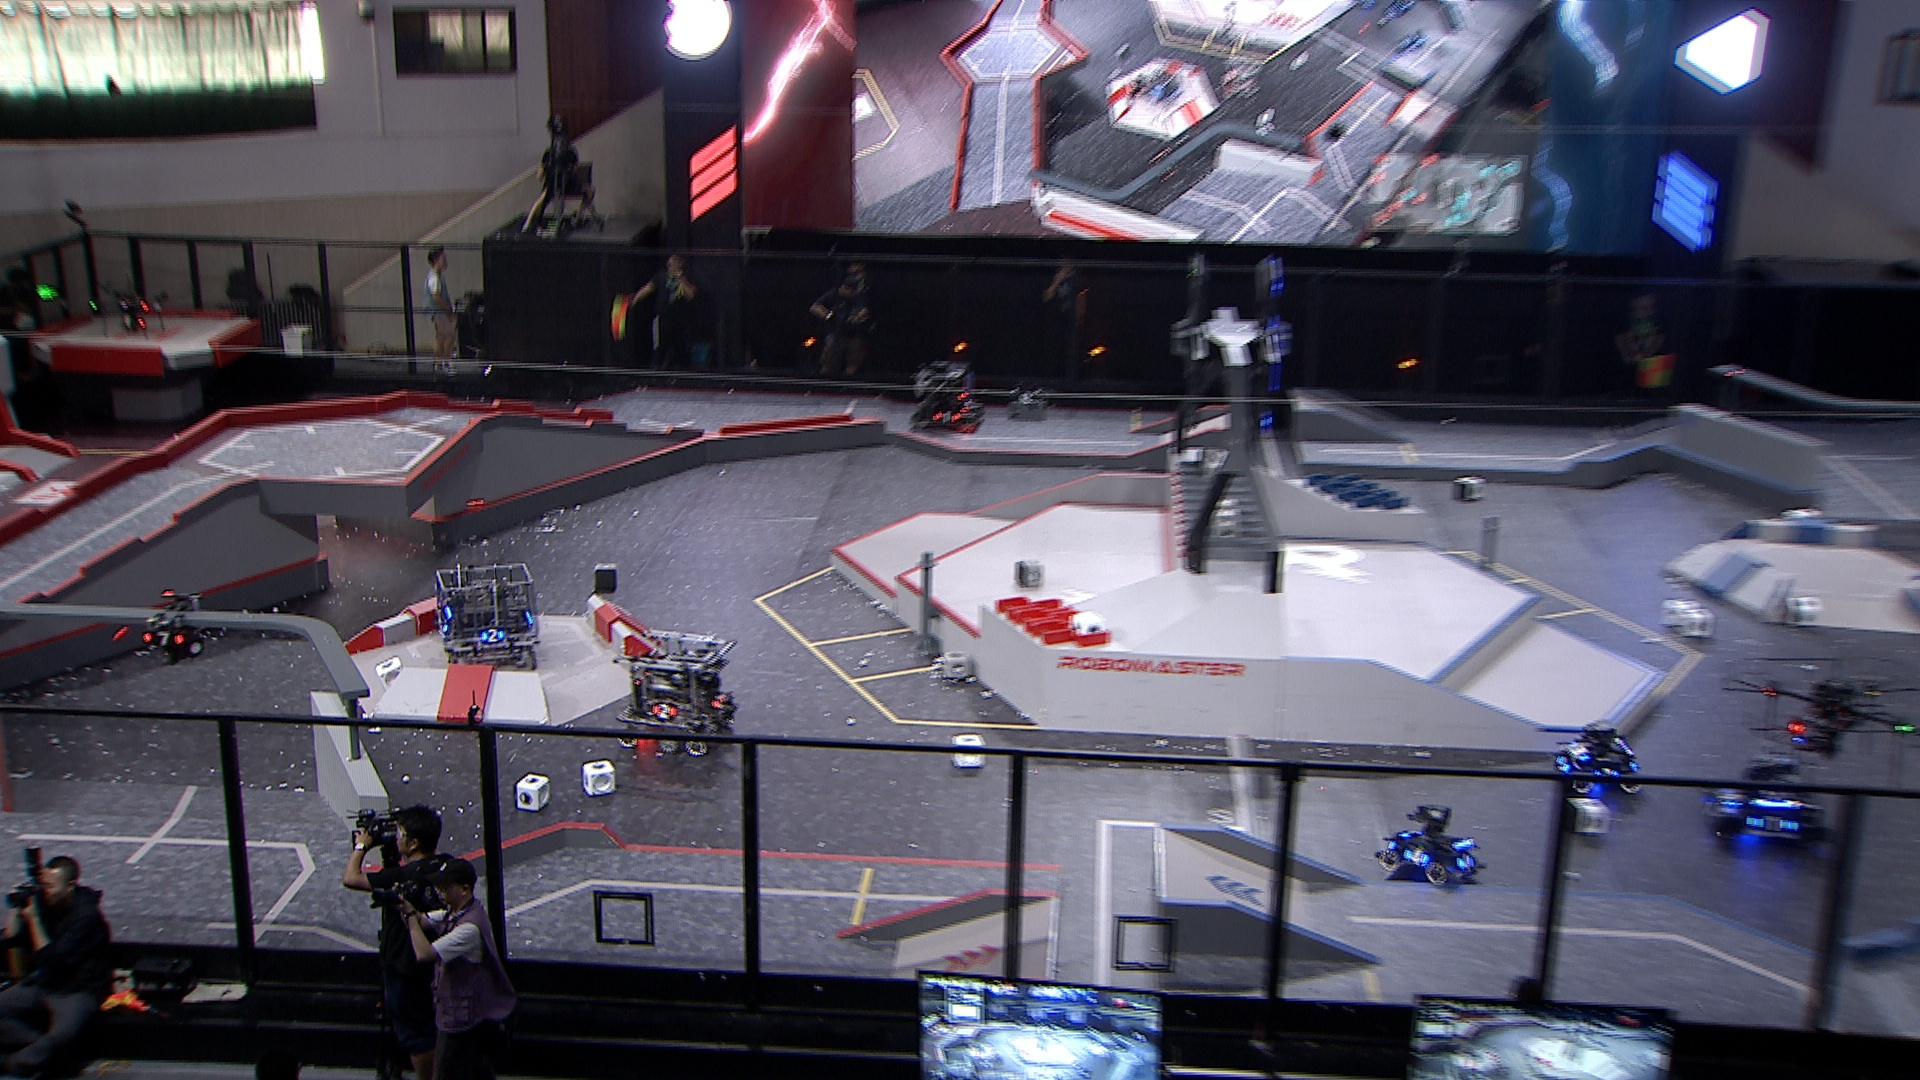armor: (1750, 811, 1801, 835), (141, 629, 183, 647), (932, 409, 963, 427), (1720, 787, 1746, 808), (1567, 741, 1590, 764), (651, 703, 678, 723), (1457, 855, 1480, 876), (1404, 849, 1429, 866), (480, 626, 505, 644), (1593, 765, 1622, 778), (1553, 756, 1572, 771), (712, 694, 727, 712), (438, 617, 448, 633)
car: (611, 629, 741, 760), (1702, 750, 1828, 851), (436, 560, 542, 669), (1373, 799, 1486, 887), (1553, 723, 1644, 793), (909, 360, 984, 434)
ignore: (1220, 55, 1262, 102), (1149, 148, 1182, 189), (1143, 73, 1178, 100), (1399, 26, 1428, 54), (1390, 0, 1418, 18)
watcher: (138, 591, 207, 666)
